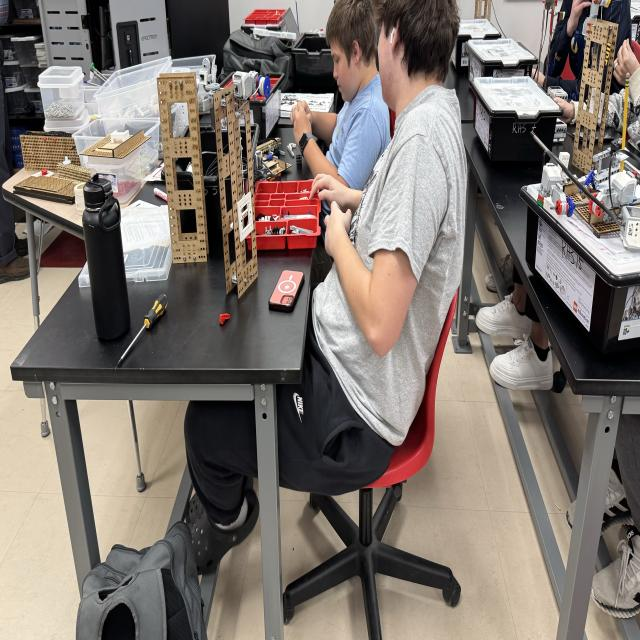pen: (269, 270, 305, 313), (572, 130, 614, 144)
